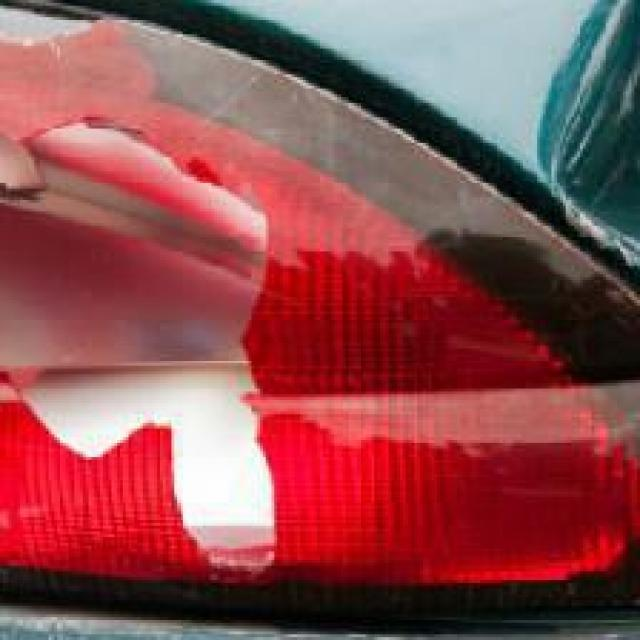damaged: (0, 123, 280, 592)
